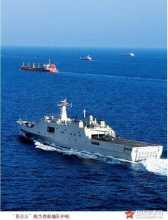otherboat: (18, 56, 60, 76)
warship: (17, 97, 167, 169)
